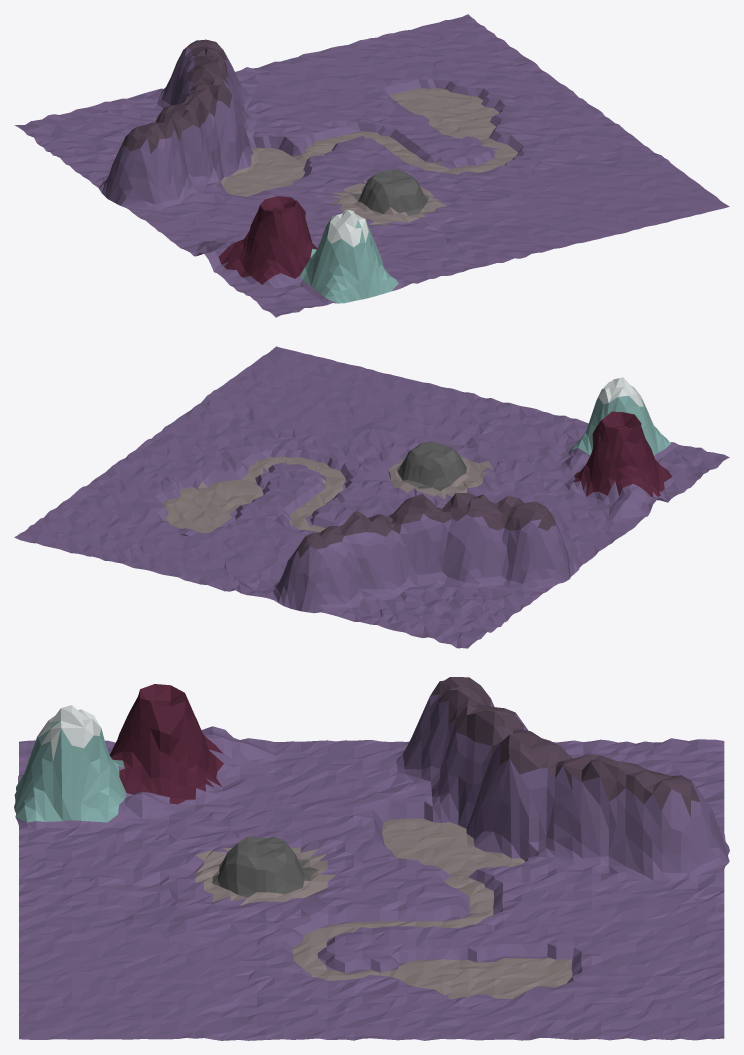
The model's file is Final_Terrain.fbx.
3 views of the same model, one above another, from view 1: azimuth 30°, elevation 25°; view 2: azimuth 150°, elevation 25°; view 3: azimuth 270°, elevation 25° (orthographic). The views are drawn at different scales.
Visible parts, largest first — view 1: pPlane3; view 2: pPlane3; view 3: pPlane3.
Part boxes in pixels (x1,y1,x2,y2): pPlane3: (14, 14, 729, 317); pPlane3: (14, 346, 729, 648); pPlane3: (14, 677, 729, 1040).
Size of the model in its own units: 3394 by 587 by 3414.
